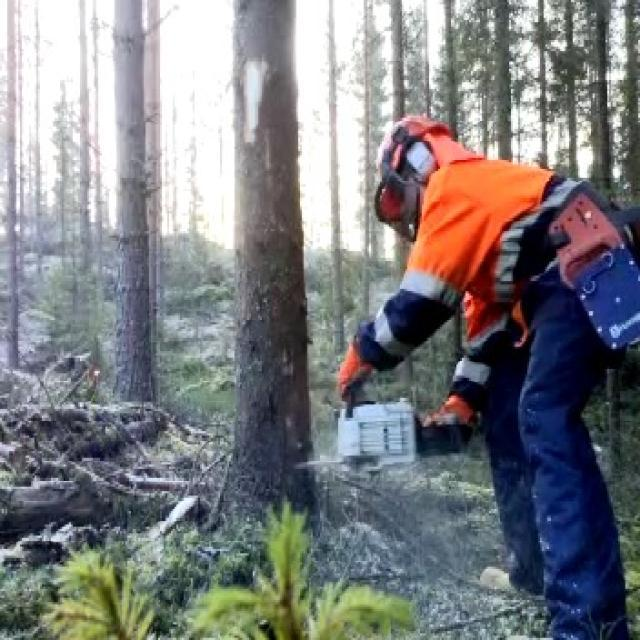Chainsaw: (284, 356, 496, 484)
